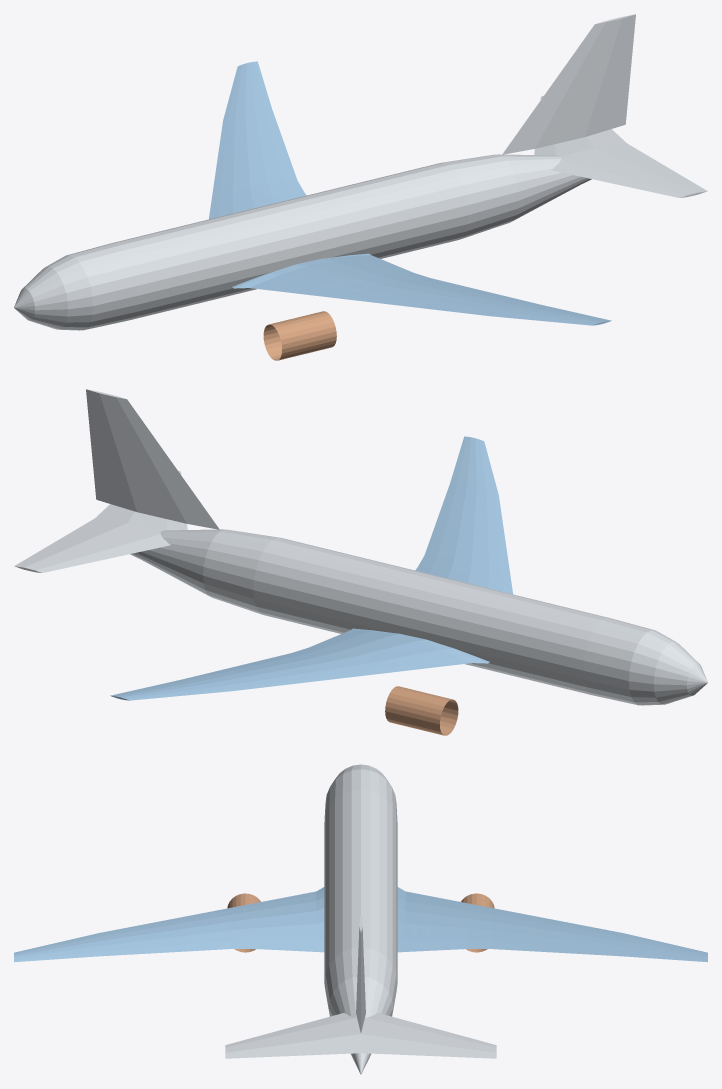
File: aircraft_a01_model.glb
3 views of the same model, one above another, from view 1: azimuth 30°, elevation 25°; view 2: azimuth 150°, elevation 25°; view 3: azimuth 270°, elevation 25° (orthographic). The views are drawn at different scales.
Parts seen in each view (by area): view 1: Intact parametric airframe; engine cylinders visual only; view 2: Intact parametric airframe; engine cylinders visual only; view 3: Intact parametric airframe; engine cylinders visual only.
Boxes of the visible parts, x1=… form: Intact parametric airframe; engine cylinders visual only: x1=14, y1=14, x2=707, y2=360; Intact parametric airframe; engine cylinders visual only: x1=14, y1=389, x2=707, y2=735; Intact parametric airframe; engine cylinders visual only: x1=14, y1=764, x2=707, y2=1074.
Size of the model in its own units: 48.51 by 14.75 by 47.57.
